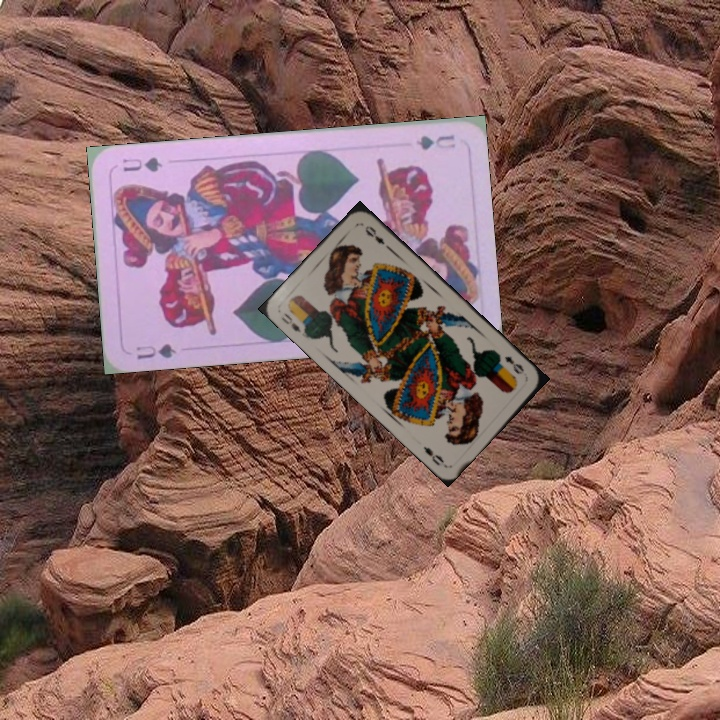EO: (277, 308, 303, 335), (500, 352, 527, 377)
GU: (132, 340, 179, 362), (412, 131, 458, 153)
